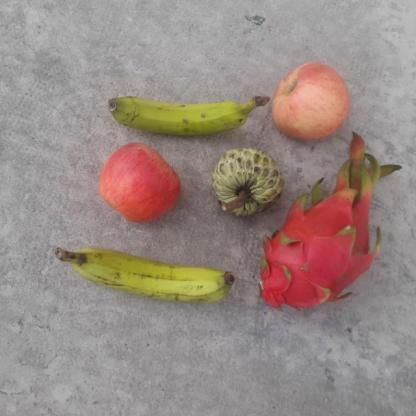annona: (209, 144, 286, 220)
apple: (268, 59, 352, 143), (98, 142, 178, 227)
banana: (74, 245, 238, 306), (106, 88, 254, 138)
pitaya: (254, 178, 368, 318)
